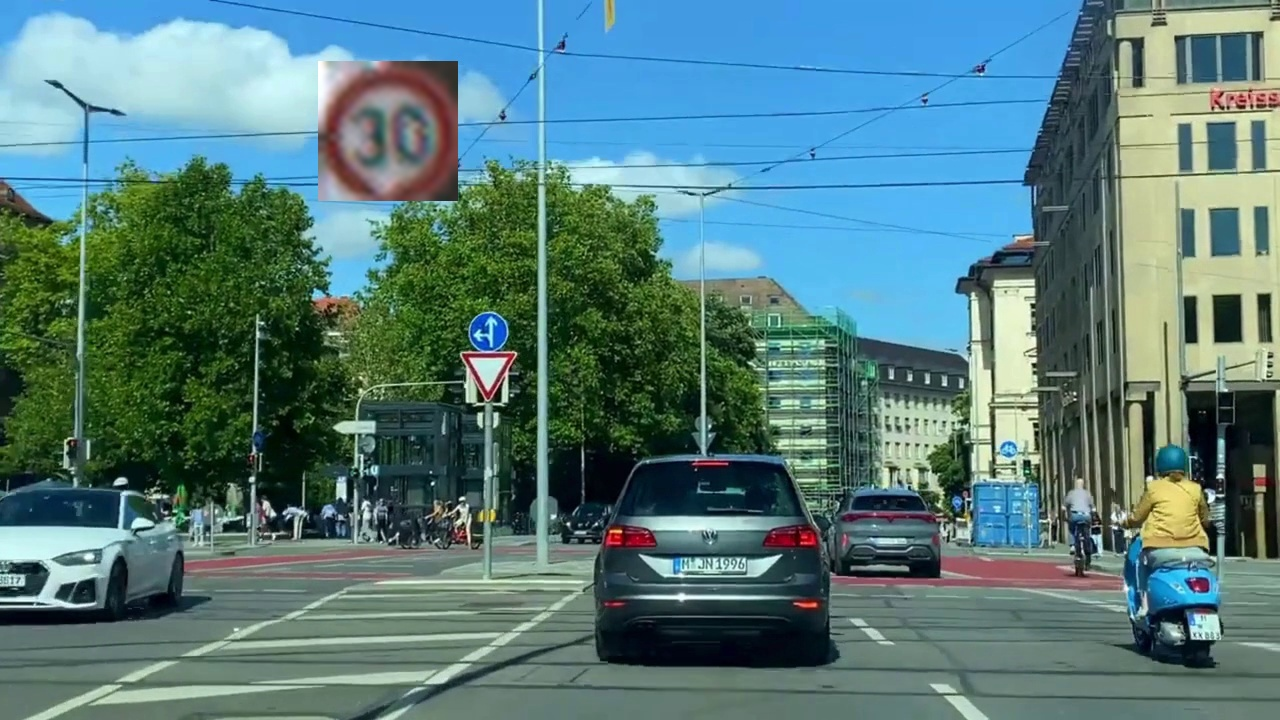Speed 30: (318, 61, 458, 201)
